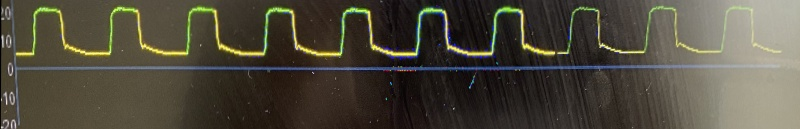normal_pressure: (12, 0, 794, 71)
